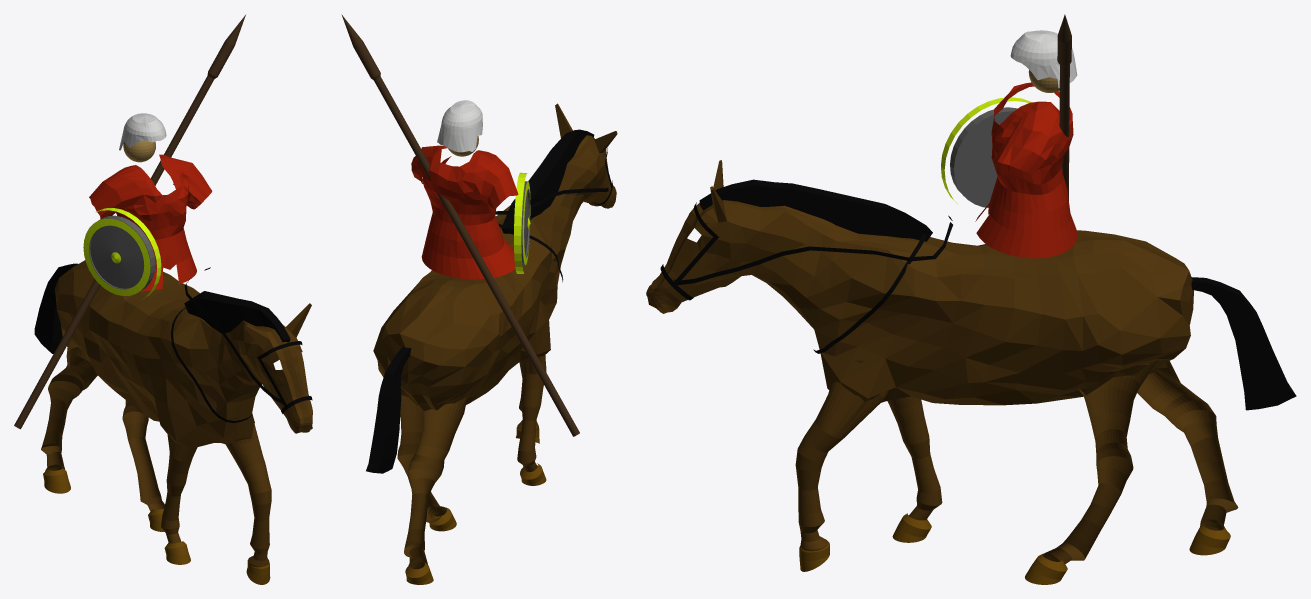
File: Horsemen.glb
3 renders of one model, left to right at view 1: azimuth 30°, elevation 25°; view 2: azimuth 150°, elevation 25°; view 3: azimuth 270°, elevation 25°, orthographic. The views are drawn at different scales.
Visible parts, largest first — view 1: horse body, jacket, shield, spear, rigth rear leg, front left leg, tail.001, left rear leg, right front leg, shield.001, tail, hair (+7 smaller); view 2: horse body, jacket, rigth rear leg, spear, tail, tail.001, right front leg, hair, left rear leg, shield rim, shield, hoof.003 (+3 smaller); view 3: horse body, jacket, left rear leg, tail.001, rigth rear leg, front left leg, tail, shield, right front leg, hair, spear, Circle.003 (+2 smaller).
Boxes of the visible parts, <box> form: horse body: <box>55,260,312,447</box>; jacket: <box>89,154,212,291</box>; shield: <box>89,215,155,291</box>; spear: <box>14,15,245,429</box>; rigth rear leg: <box>41,325,97,470</box>; front left leg: <box>225,424,271,567</box>; tail.001: <box>184,291,290,342</box>; left rear leg: <box>122,400,164,511</box>; right front leg: <box>161,434,197,543</box>; shield.001: <box>83,218,150,295</box>; tail: <box>34,263,77,353</box>; hair: <box>119,113,166,150</box>; horse body: <box>373,103,617,410</box>; jacket: <box>411,145,518,279</box>; rigth rear leg: <box>404,378,481,569</box>; spear: <box>341,14,579,436</box>; tail: <box>366,346,411,473</box>; tail.001: <box>501,129,594,234</box>; right front leg: <box>517,355,546,485</box>; hair: <box>437,100,482,152</box>; left rear leg: <box>377,361,446,522</box>; shield rim: <box>514,172,527,273</box>; shield: <box>521,181,530,265</box>; hoof.003: <box>405,562,433,584</box>; horse body: <box>646,160,1193,405</box>; jacket: <box>975,82,1077,258</box>; left rear leg: <box>1043,358,1159,564</box>; tail.001: <box>699,179,932,241</box>; rigth rear leg: <box>1137,361,1238,530</box>; front left leg: <box>795,360,888,551</box>; tail: <box>1191,277,1296,410</box>; shield: <box>950,107,1017,207</box>; right front leg: <box>887,396,942,520</box>; hair: <box>1010,30,1077,87</box>; spear: <box>1057,14,1071,200</box>; Circle.003: <box>674,215,952,285</box>.
Size of the model in its own units: 1.43 by 2.84 by 2.69.
